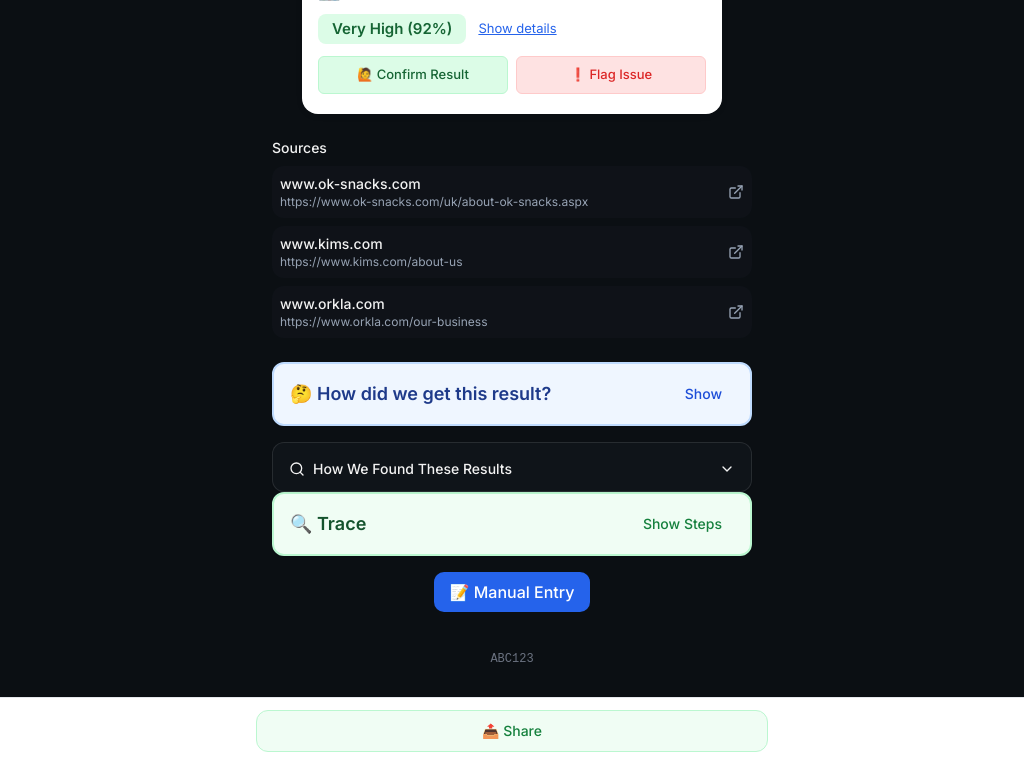
Test case: ProductResultScreen E2E Tests › Manual Entry vs Vision Pipeline › does not show Vision stages for manual entry traces
(page scrolled)
Click the button "Show Steps": point(682, 524) [631,510,734,538]
(page scrolled)
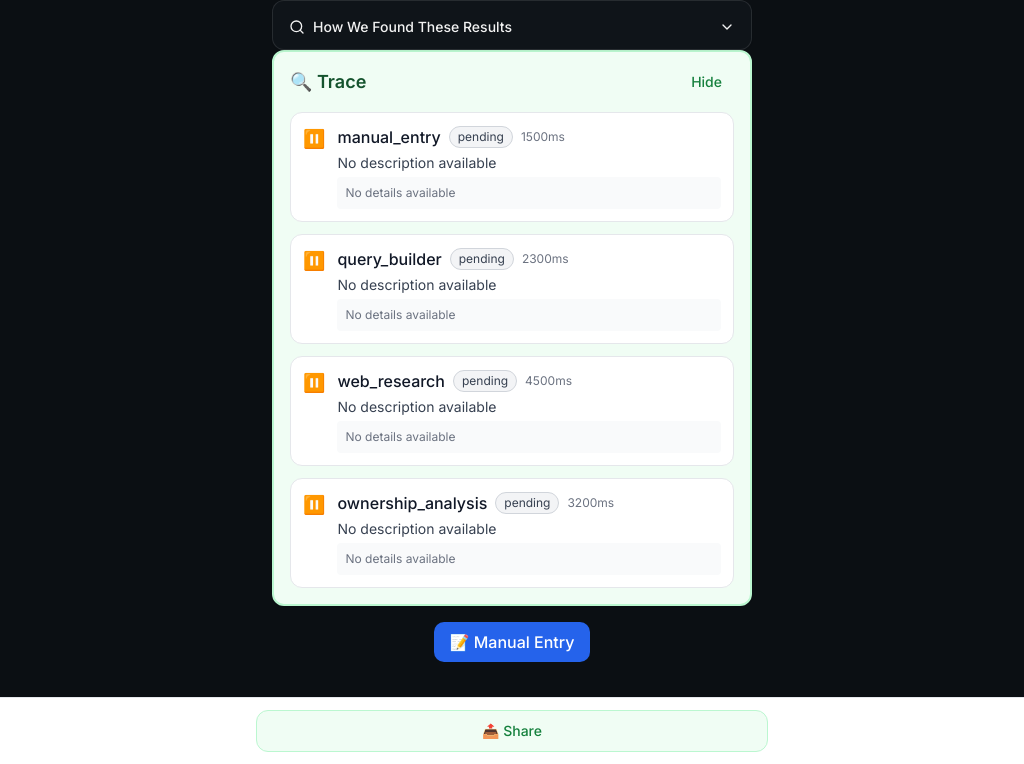
Check: the heading "manual_entry" is shown, box [338,124,441,148]
Check: the heading "web_research" is shown, box [338,368,445,392]
